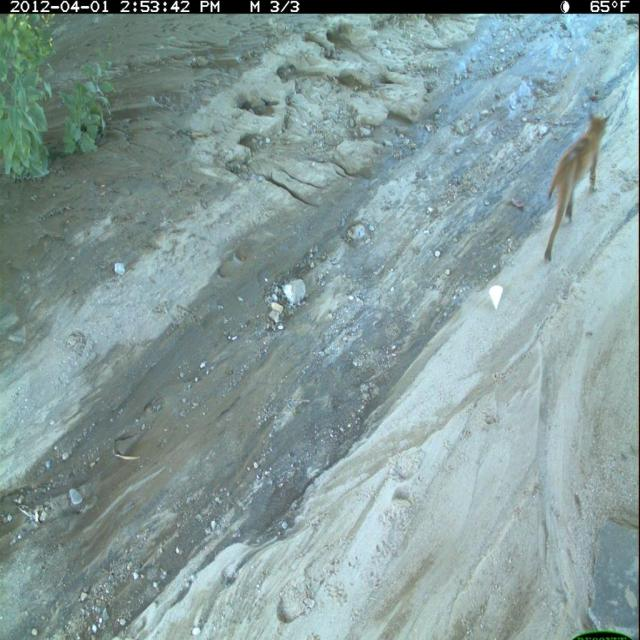bobcat: (542, 108, 616, 268)
